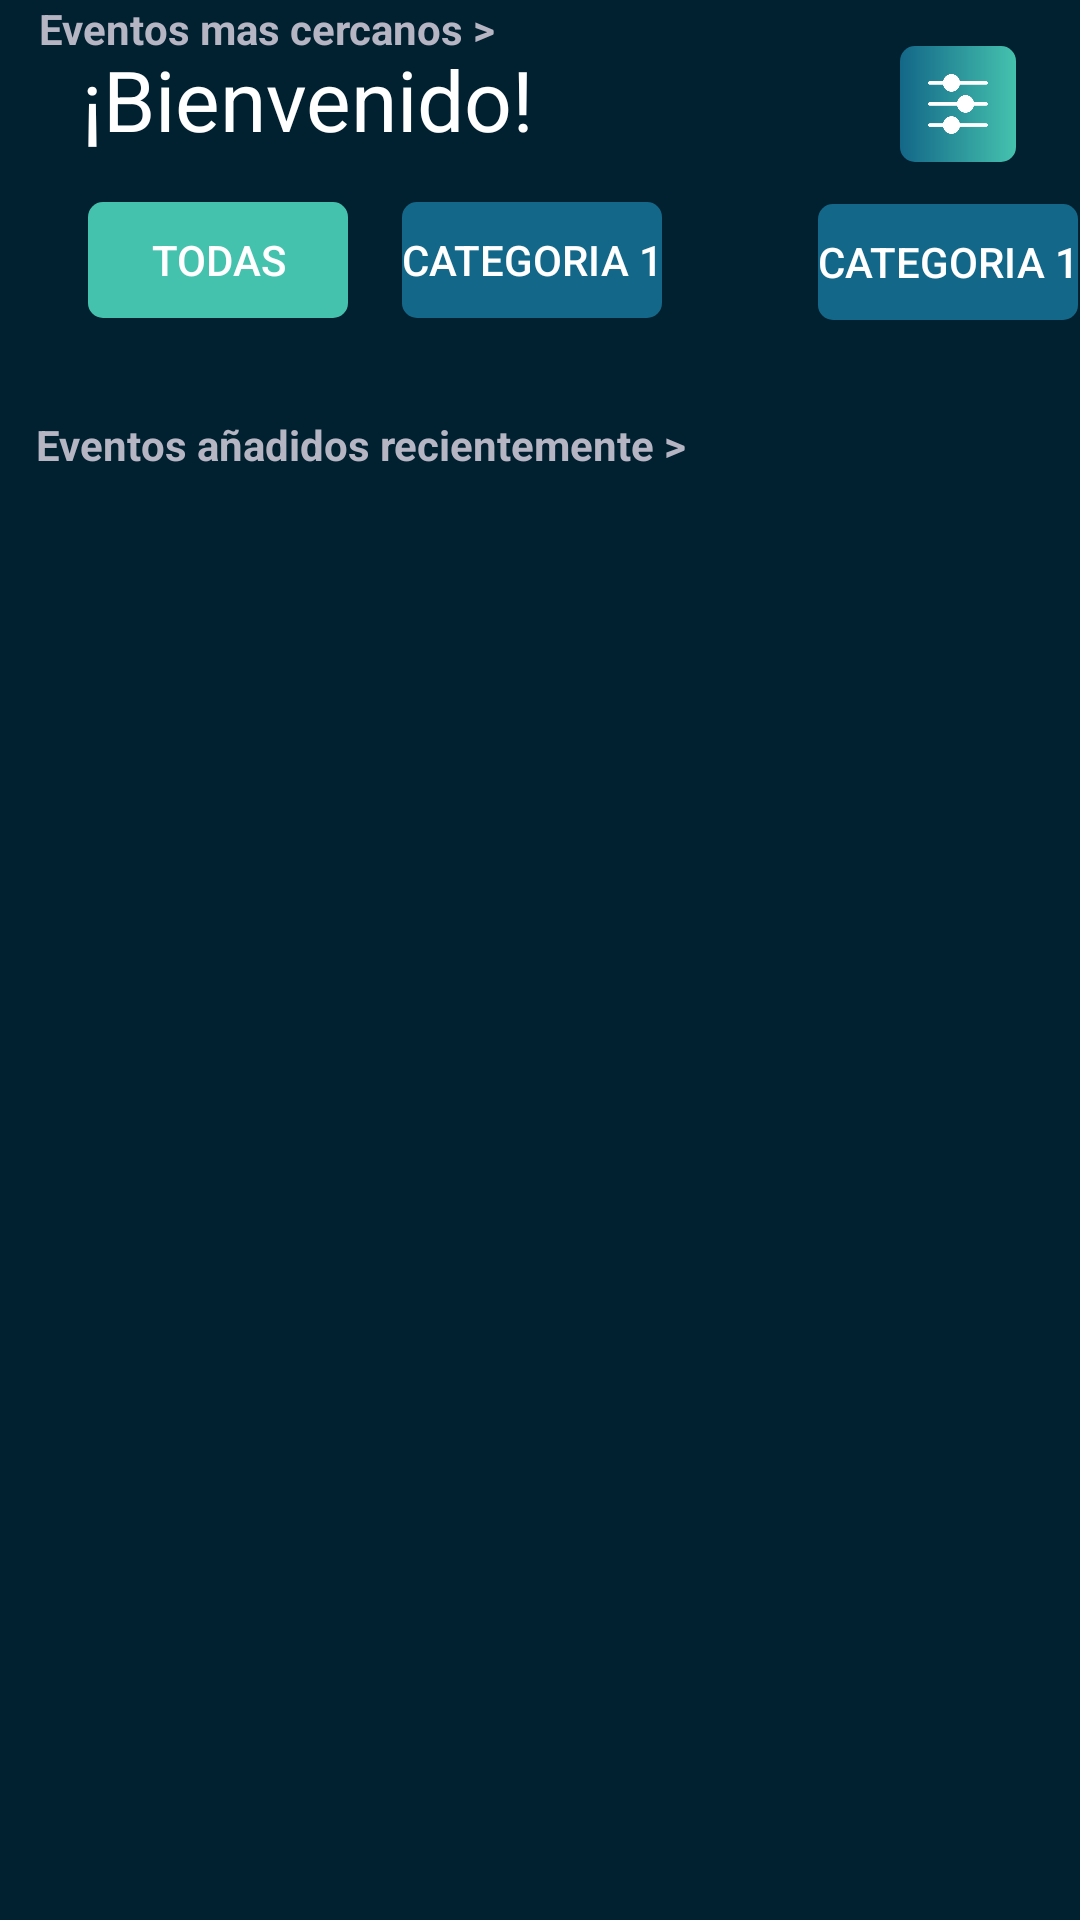

Named icons in this screenshot (1080*1920) and their bounding boxes, [x1, y1, x2, y2]:
filters: [900, 46, 1016, 162]
